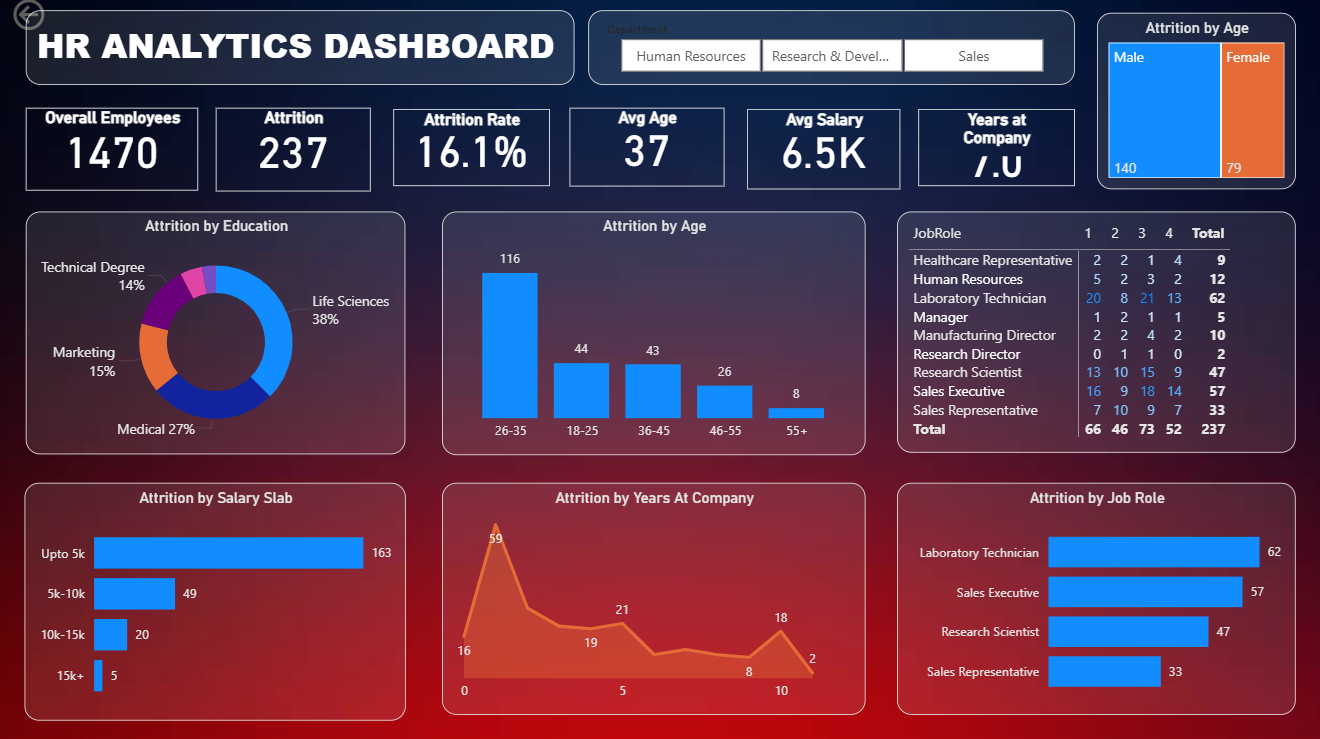

Layout of this report page (visuals, bound fields, positions):
{"tool":"powerbi","page":{"name":"Page 1","canvas":[1280,720],"ordinal":0},"visuals":[{"type":"card","title":"Overall Employees","fields":{"Values":["CountNonNull(HR_Analytics.EmpID)"]},"box":[27.7,109.8,166.5,79.6],"z":0},{"type":"card","title":"Attrition","fields":{"Values":["Sum(HR_Analytics.AttritionCount)"]},"box":[211.1,109.8,149.6,80.8],"z":1000},{"type":"card","title":"Avg Age","fields":{"Values":["Avg(HR_Analytics.Age)"]},"box":[552.5,109.8,149.6,76],"z":2000},{"type":"card","title":"Attrition Rate","fields":{"Values":["HR_Analytics.AttritionRate"]},"box":[382.4,111,150.8,74.8],"z":3000},{"type":"actionButton","box":[10.9,0,100.1,39.8],"z":4000},{"type":"card","title":"Avg Salary","fields":{"Values":["Avg(HR_Analytics.MonthlyIncome)"]},"box":[723.9,111,148.4,77.2],"z":5000},{"type":"card","title":"Years at Company","fields":{"Values":["Avg(HR_Analytics.YearsAtCompany)"]},"box":[889.1,111,150.8,74.8],"z":6000},{"type":"donutChart","title":" Attrition by Education","fields":{"Category":["HR_Analytics.EducationField"],"Y":["Sum(HR_Analytics.AttritionCount)"]},"box":[27.7,209.9,366.8,234],"z":7000},{"type":"columnChart","title":" Attrition by Age","fields":{"Category":["HR_Analytics.AgeGroup"],"Y":["Sum(HR_Analytics.AttritionCount)"]},"box":[429.5,209.9,409,235.3],"z":8000},{"type":"pivotTable","fields":{"Rows":["HR_Analytics.JobRole"],"Columns":["HR_Analytics.JobSatisfaction"],"Values":["Sum(HR_Analytics.AttritionCount)"]},"box":[868.6,209.9,384.9,232.8],"z":9000},{"type":"barChart","title":" Attrition by Salary Slab","fields":{"Category":["HR_Analytics.SalarySlab"],"Y":["Sum(HR_Analytics.AttritionCount)"]},"box":[26.5,471.7,368,229.2],"z":10000},{"type":"barChart","title":" Attrition by Job Role","fields":{"Category":["HR_Analytics.JobRole"],"Y":["Sum(HR_Analytics.AttritionCount)"]},"box":[868.6,471.7,384.9,224.4],"z":11000},{"type":"areaChart","title":" Attrition by Years At Company","fields":{"Category":["HR_Analytics.YearsAtCompany"],"Y":["Sum(HR_Analytics.AttritionCount)"]},"box":[429.5,471.7,409,224.4],"z":12000},{"type":"treemap","title":" Attrition by Age","fields":{"Group":["HR_Analytics.Gender"],"Values":["Sum(HR_Analytics.AttritionCount)"]},"box":[1061.7,18.1,191.8,170.1],"z":13000},{"type":"slicer","title":" Attrition by Age","fields":{"Values":["HR_Analytics.Department"]},"box":[570.6,15.7,469.3,72.4],"z":14000},{"type":"textbox","box":[27.7,15.7,529.6,72.4],"z":15000}]}

Visuals, with their boxes in screenshot pixels (x1, y1, x2, y2), scaled from the page's 1280x720 canvas onto the 1320x739 screenshot:
"Overall Employees" card: select_region(29, 113, 200, 194)
"Attrition" card: select_region(218, 113, 372, 196)
"Avg Age" card: select_region(570, 113, 724, 191)
"Attrition Rate" card: select_region(394, 114, 550, 191)
actionButton: select_region(11, 0, 114, 41)
"Avg Salary" card: select_region(747, 114, 900, 193)
"Years at Company" card: select_region(917, 114, 1072, 191)
" Attrition by Education" donutChart: select_region(29, 215, 407, 456)
" Attrition by Age" columnChart: select_region(443, 215, 865, 457)
pivotTable - HR_Analytics.JobRole x HR_Analytics.JobSatisfaction: select_region(896, 215, 1293, 454)
" Attrition by Salary Slab" barChart: select_region(27, 484, 407, 719)
" Attrition by Job Role" barChart: select_region(896, 484, 1293, 714)
" Attrition by Years At Company" areaChart: select_region(443, 484, 865, 714)
" Attrition by Age" treemap: select_region(1095, 19, 1293, 193)
" Attrition by Age" slicer: select_region(588, 16, 1072, 90)
textbox: select_region(29, 16, 575, 90)
